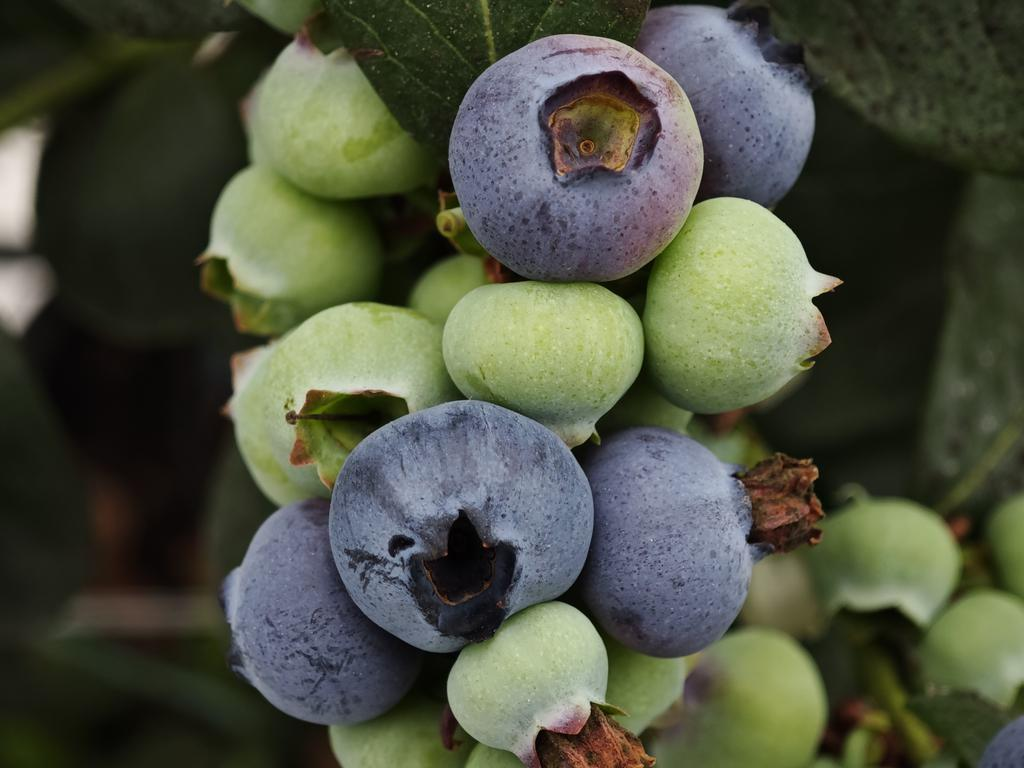RipeBlueBerry: (332, 399, 587, 642), (597, 420, 759, 654)
Semi-RipeBlueBerry: (453, 29, 707, 280)
